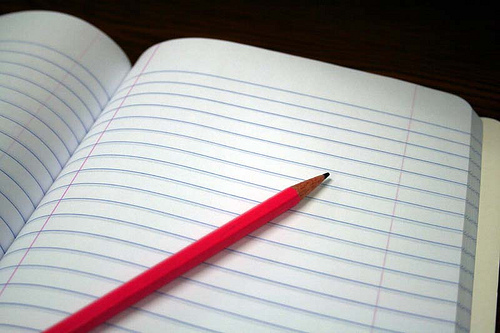pen_tip: (289, 167, 335, 205)
